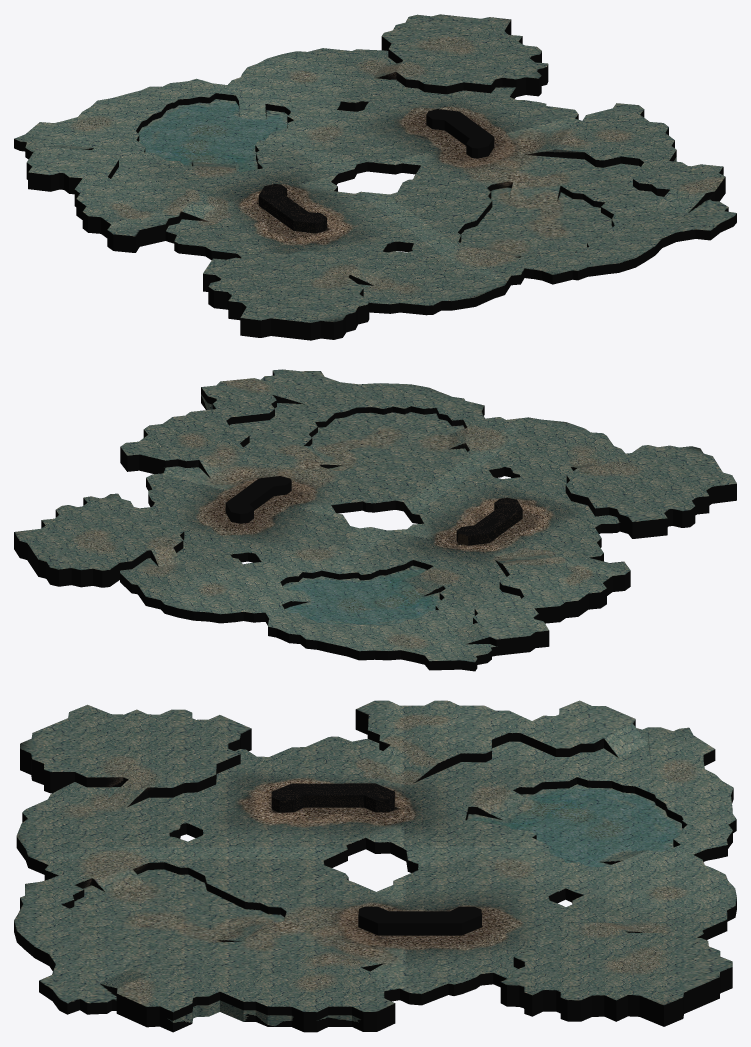
The model's file is caverneXELNAGA4.obj.
The picture shows the model from 3 angles, top to bottom: view 1: azimuth 30°, elevation 25°; view 2: azimuth 150°, elevation 25°; view 3: azimuth 270°, elevation 25°; orthographic projection. The views are drawn at different scales.
Visible parts, largest first — view 1: Plane.008; view 2: Plane.008; view 3: Plane.008.
Part boxes in pixels (x1,y1,x2,y2): Plane.008: (14,14,736,340); Plane.008: (14,369,736,671); Plane.008: (14,700,736,1032).
Size of the model in its own units: 673 by 24.88 by 659.
Materials: 2 (2 with a texture image).
